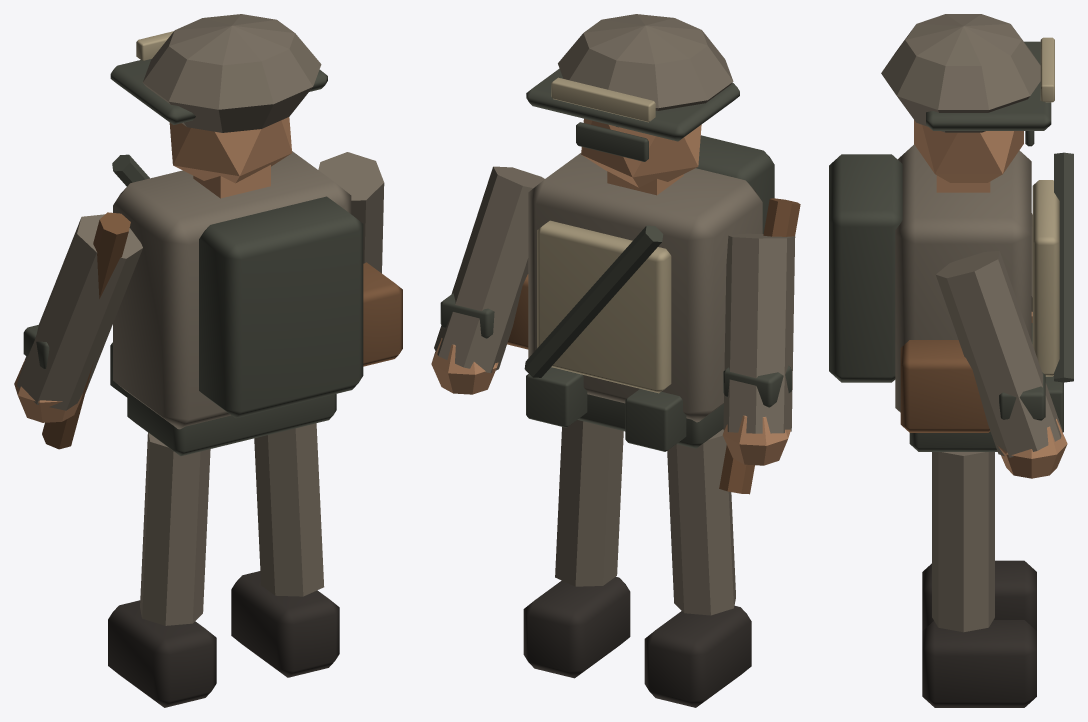
Rendered from enemy_infantry.fbx.
The picture shows the model from 3 angles, left to right: view 1: azimuth 30°, elevation 25°; view 2: azimuth 150°, elevation 25°; view 3: azimuth 270°, elevation 25°; orthographic projection.
Visible parts, largest first — view 1: backpack, torso tunic, soft helmet, L arm, L shin, R shin, L boot, R boot, belt, head, R arm, right field pouch (+7 smaller); view 2: torso tunic, front webbing, L arm, soft helmet, R arm, L shin, R shin, L boot, R boot, diagonal front strap, helmet brim, head (+13 smaller); view 3: torso tunic, backpack, R arm, soft helmet, R shin, R boot, right field pouch, front webbing, head, diagonal front strap, helmet brim, L boot (+6 smaller).
Part boxes in pixels (x1,y1,x2,y2): backpack: (199, 196, 363, 418); torso tunic: (113, 151, 351, 429); soft helmet: (142, 14, 321, 132); L arm: (17, 214, 142, 410); L shin: (140, 432, 210, 625); R shin: (254, 423, 324, 596); L boot: (108, 600, 216, 707); R boot: (231, 571, 339, 677); belt: (127, 392, 336, 455); head: (169, 117, 291, 183); R arm: (318, 152, 384, 273); right field pouch: (363, 262, 402, 366); torso tunic: (528, 153, 762, 422); front webbing: (537, 220, 671, 393); L arm: (723, 233, 795, 433); soft helmet: (558, 14, 733, 127); R arm: (434, 166, 544, 373); L shin: (667, 429, 735, 615); R shin: (555, 420, 623, 586); L boot: (644, 606, 751, 707); R boot: (523, 577, 630, 678); diagonal front strap: (524, 225, 663, 377); helmet brim: (526, 68, 739, 141); head: (581, 118, 701, 187); torso tunic: (895, 144, 1031, 412); backpack: (829, 154, 902, 382); R arm: (936, 250, 1062, 457); soft helmet: (881, 14, 1040, 132); R shin: (932, 452, 994, 632); R boot: (922, 620, 1036, 707); right field pouch: (900, 340, 990, 432); front webbing: (1032, 180, 1059, 376); head: (914, 120, 1023, 182); diagonal front strap: (1054, 152, 1073, 382); helmet brim: (926, 41, 1051, 130); L boot: (922, 560, 1036, 630).
Bounding box in the file's own units: 114 × 198 × 68.27.
